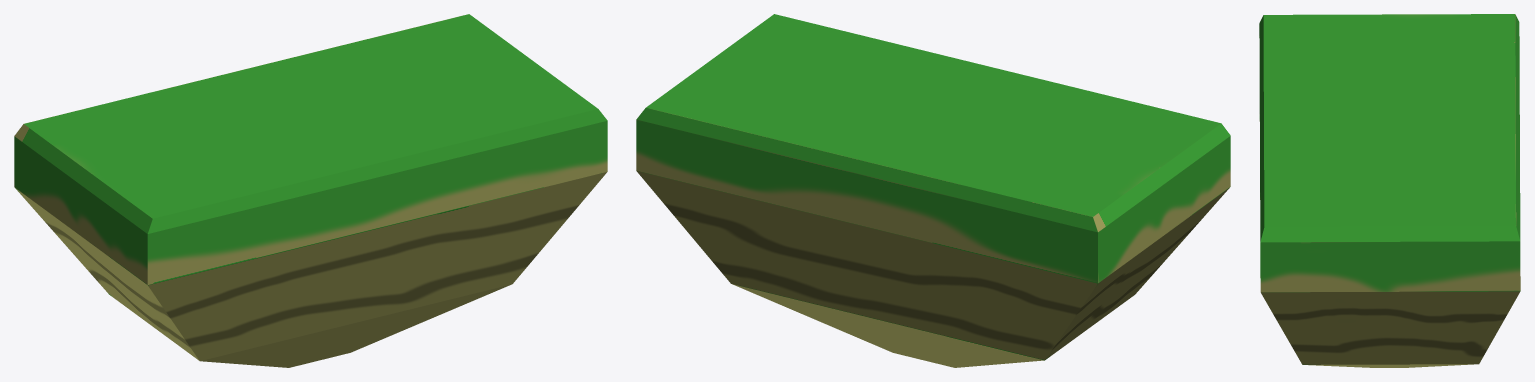
The model's file is plat2x1.obj.
3 renders of one model, left to right at view 1: azimuth 30°, elevation 25°; view 2: azimuth 150°, elevation 25°; view 3: azimuth 270°, elevation 25°, orthographic. The views are drawn at different scales.
Visible parts, largest first — view 1: Cube; view 2: Cube; view 3: Cube.
Part boxes in pixels (x1=…): Cube: x1=14, y1=14, x2=607, y2=367; Cube: x1=636, y1=14, x2=1230, y2=367; Cube: x1=1259, y1=14, x2=1520, y2=367.
Size of the model in its own units: 4 by 1.98 by 2.01.
Materials: 1 (1 with a texture image).
